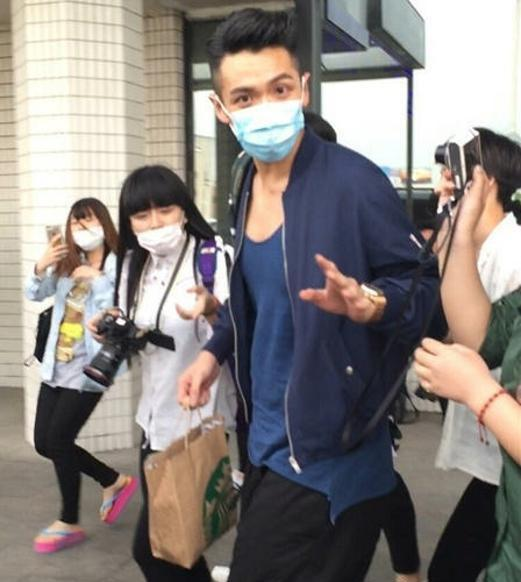OK: (222, 68, 310, 161)
WRONG: (129, 197, 187, 255), (70, 214, 107, 252)
